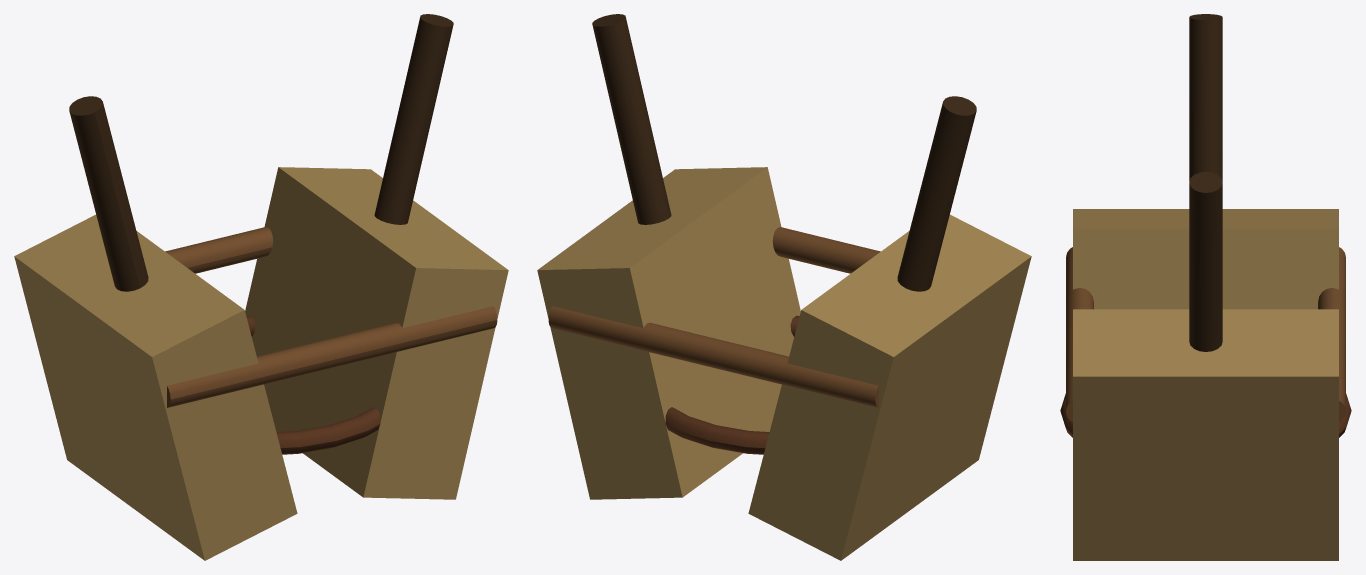
The picture shows the model from 3 angles, left to right: view 1: azimuth 30°, elevation 25°; view 2: azimuth 150°, elevation 25°; view 3: azimuth 270°, elevation 25°; orthographic projection. The views are drawn at different scales.
Parts seen in each view (by area): view 1: OBJ-017 — DEMO NON_VALIDE; view 2: OBJ-017 — DEMO NON_VALIDE; view 3: OBJ-017 — DEMO NON_VALIDE.
Part boxes in pixels (x1,y1,x2,y2): OBJ-017 — DEMO NON_VALIDE: [14, 14, 508, 560]; OBJ-017 — DEMO NON_VALIDE: [537, 14, 1031, 560]; OBJ-017 — DEMO NON_VALIDE: [1060, 14, 1351, 560].
Bounding box in the file's own units: 1.89 × 2 × 1.3.
